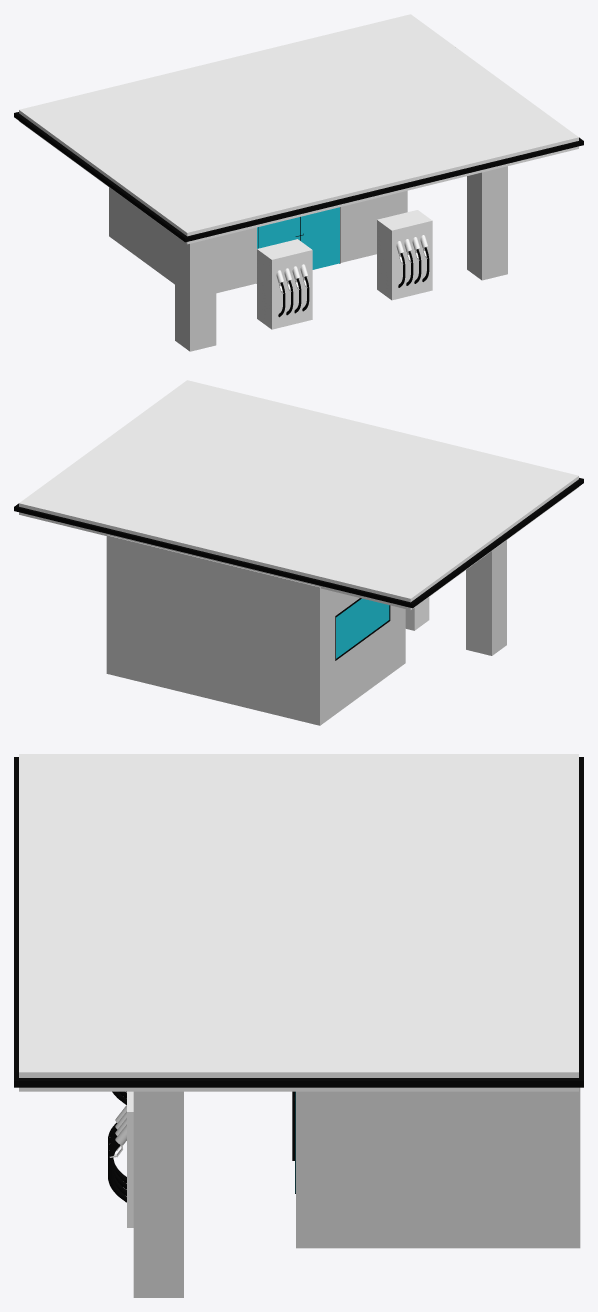
Rendered from gasstation.glb.
The picture shows the model from 3 angles, top to bottom: view 1: azimuth 30°, elevation 25°; view 2: azimuth 150°, elevation 25°; view 3: azimuth 270°, elevation 25°; orthographic projection. The views are drawn at different scales.
Parts seen in each view (by area): view 1: Cube.001, Cube, Cube.002, Cube.003, Cube.004, Cube.016, Cube.034, Cube.023; view 2: Cube.001, Cube, Cube.002, Cube.034, Cube.035, Cube.016; view 3: Cube.001, Cube, Cube.003, Cube.034, Cube.004.
Part boxes in pixels (x1,y1,x2,y2): Cube.001: (19,14,578,244); Cube: (109,187,407,293); Cube.002: (175,236,216,351); Cube.003: (467,166,507,280); Cube.004: (377,210,432,300); Cube.016: (257,239,312,329); Cube.034: (14,112,583,242); Cube.023: (257,207,339,269); Cube.001: (19,380,578,610); Cube: (106,535,405,725); Cube.002: (466,540,506,655); Cube.034: (14,478,583,608); Cube.035: (336,598,389,658); Cube.016: (405,597,429,630); Cube.001: (19,754,578,1091); Cube: (296,1087,580,1248); Cube.003: (133,1091,183,1297); Cube.034: (14,757,583,1087); Cube.004: (109,1091,133,1227).
Size of the model in its own units: 6.1 by 2.24 by 4.54.
